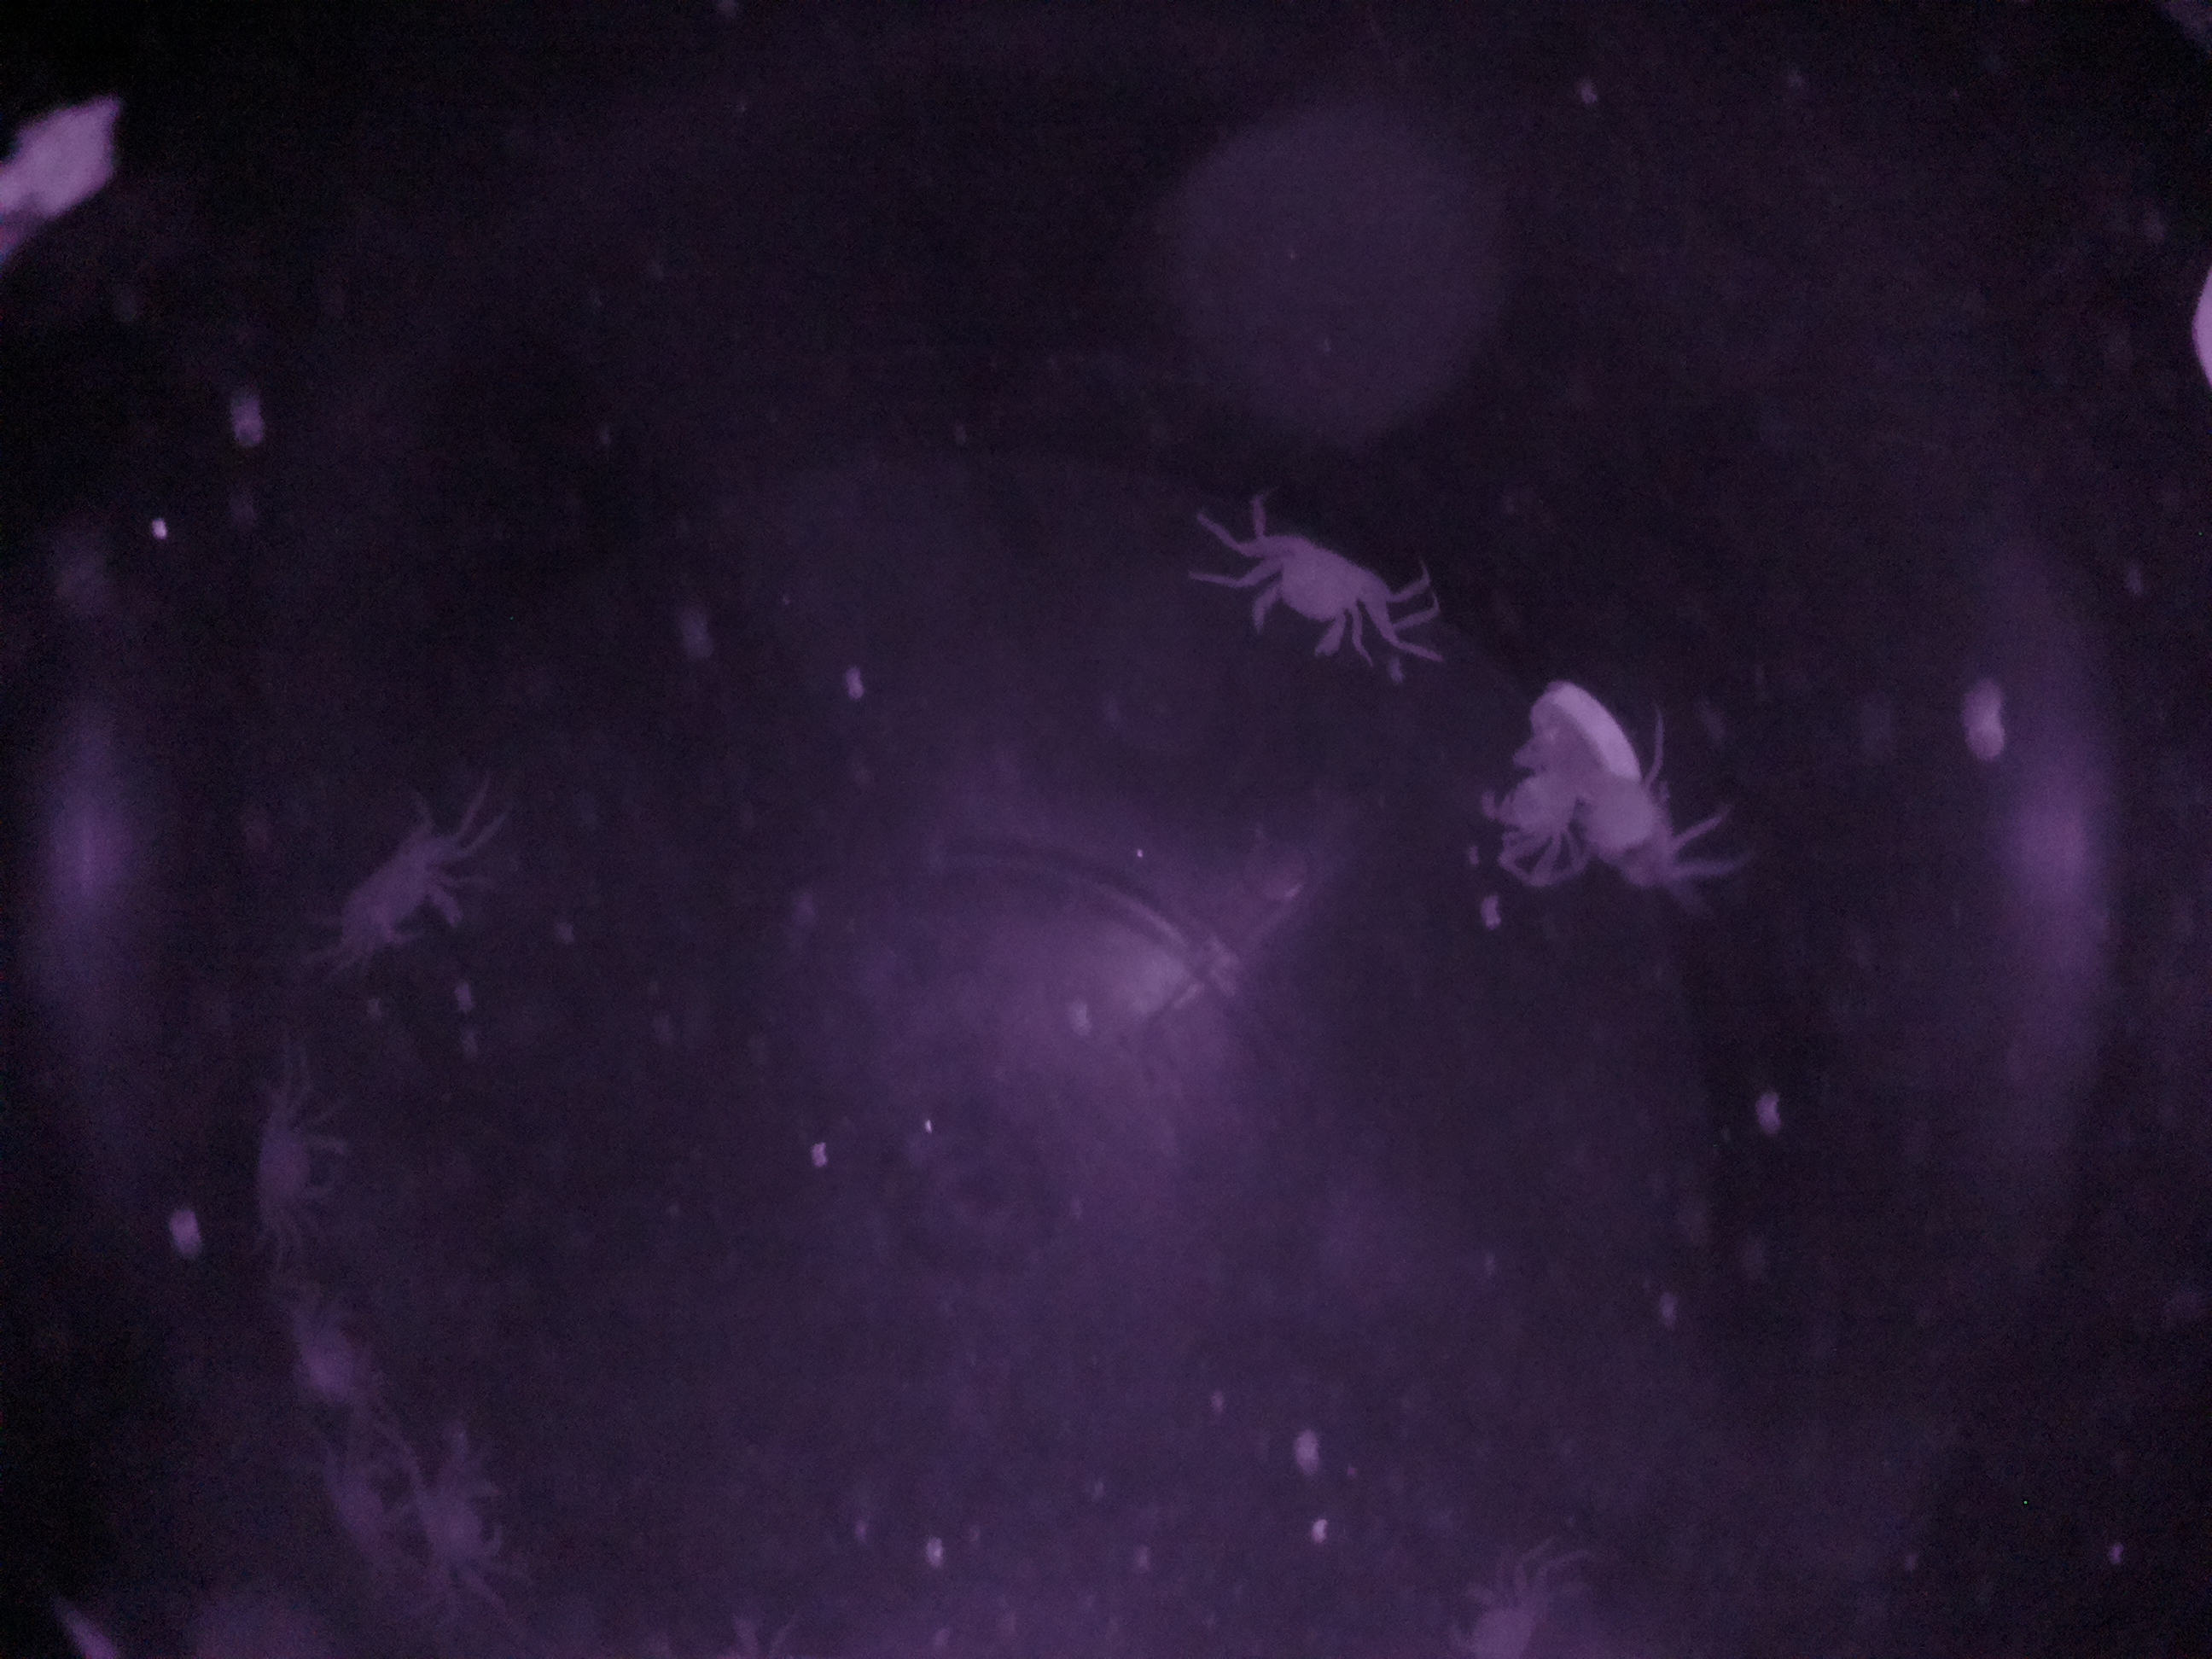Crab: (1211, 495, 1430, 685), (303, 810, 491, 976)
